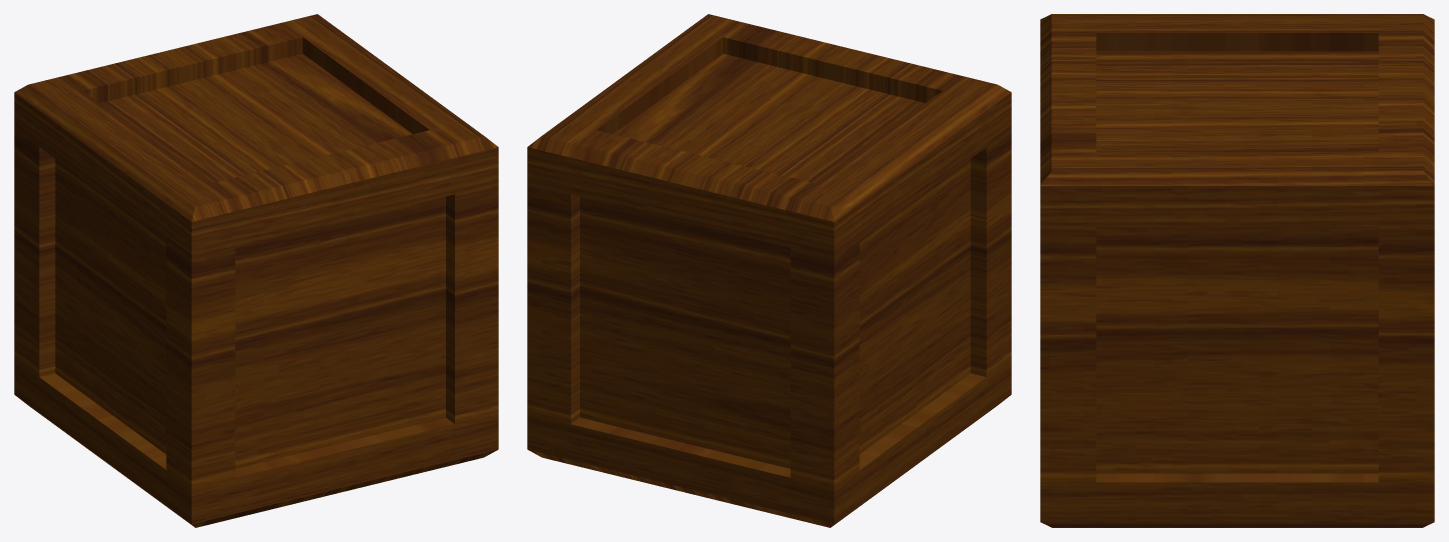
The model's file is WoddenBox.obj.
3 views of the same model, side by side, from view 1: azimuth 30°, elevation 25°; view 2: azimuth 150°, elevation 25°; view 3: azimuth 270°, elevation 25° (orthographic). The views are drawn at different scales.
Visible parts, largest first — view 1: Cube; view 2: Cube; view 3: Cube.
Part boxes in pixels (left/top/right/bottom): Cube: left=14, top=14, right=498, bottom=527; Cube: left=527, top=14, right=1011, bottom=527; Cube: left=1040, top=14, right=1434, bottom=527.
Size of the model in its own units: 2 by 2 by 2.
1 material, 1 textured.
